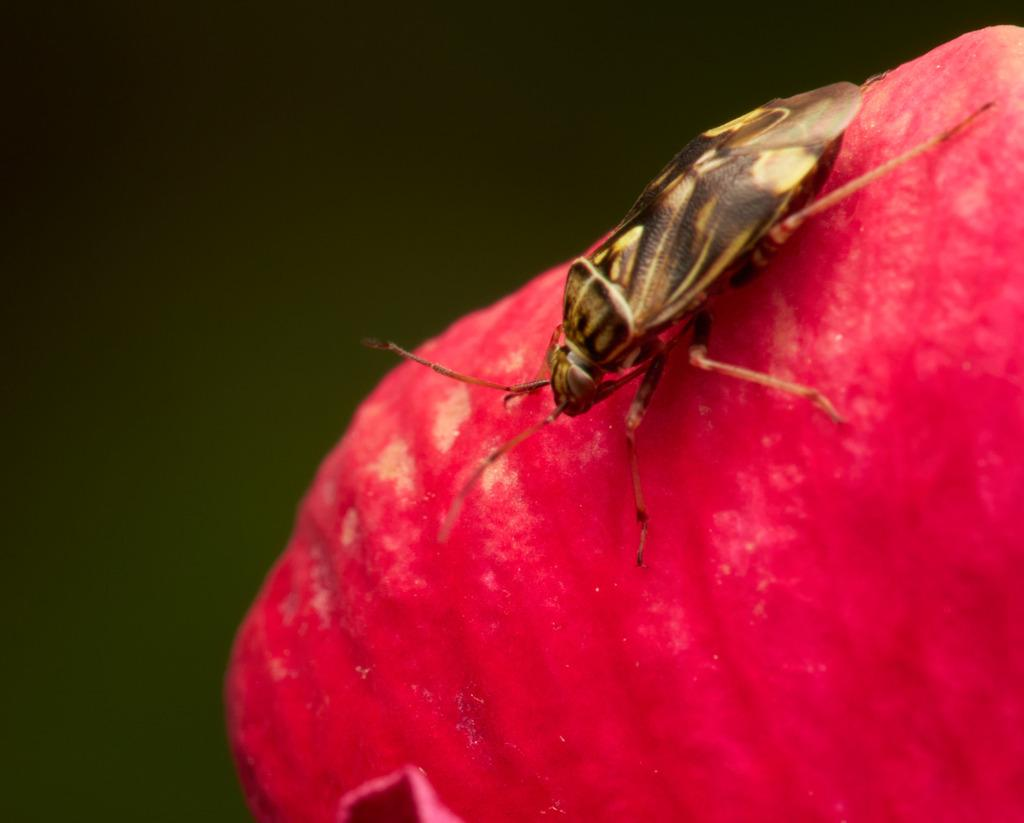plant_bugs: (292, 0, 1022, 647)
